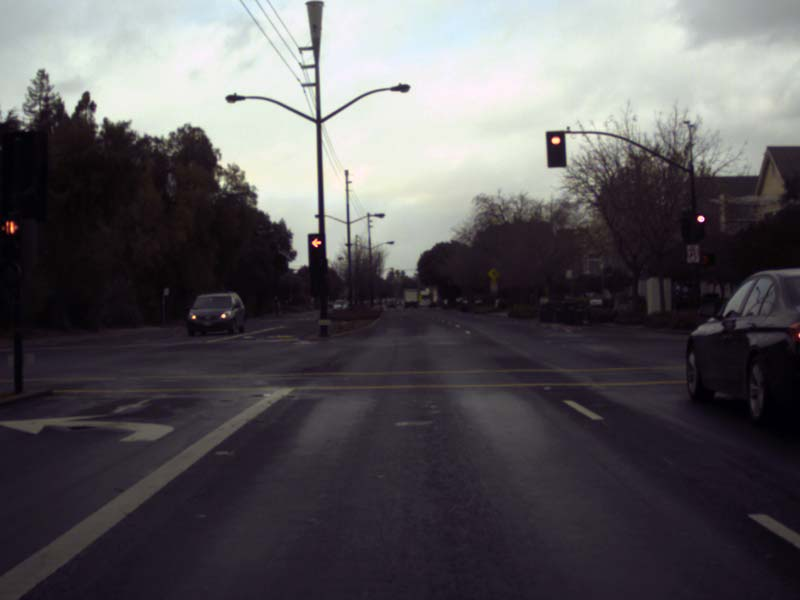Red: (546, 131, 566, 166), (308, 233, 325, 273), (695, 214, 704, 238)
